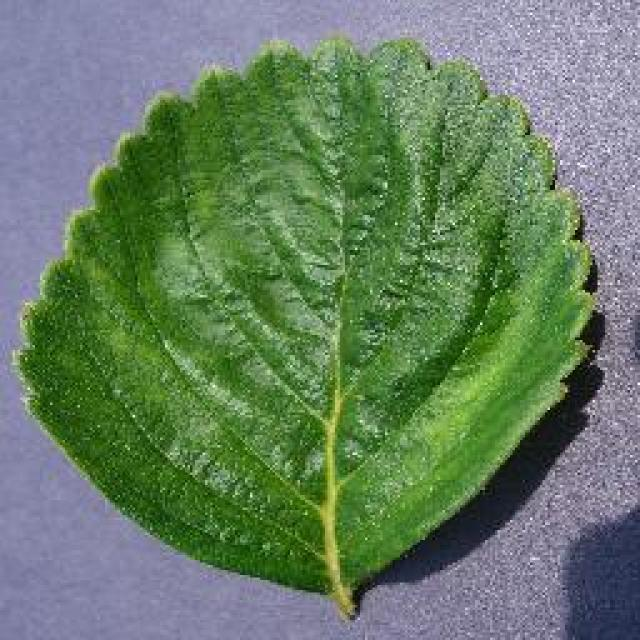Straw_healthy: (72, 80, 553, 504)
